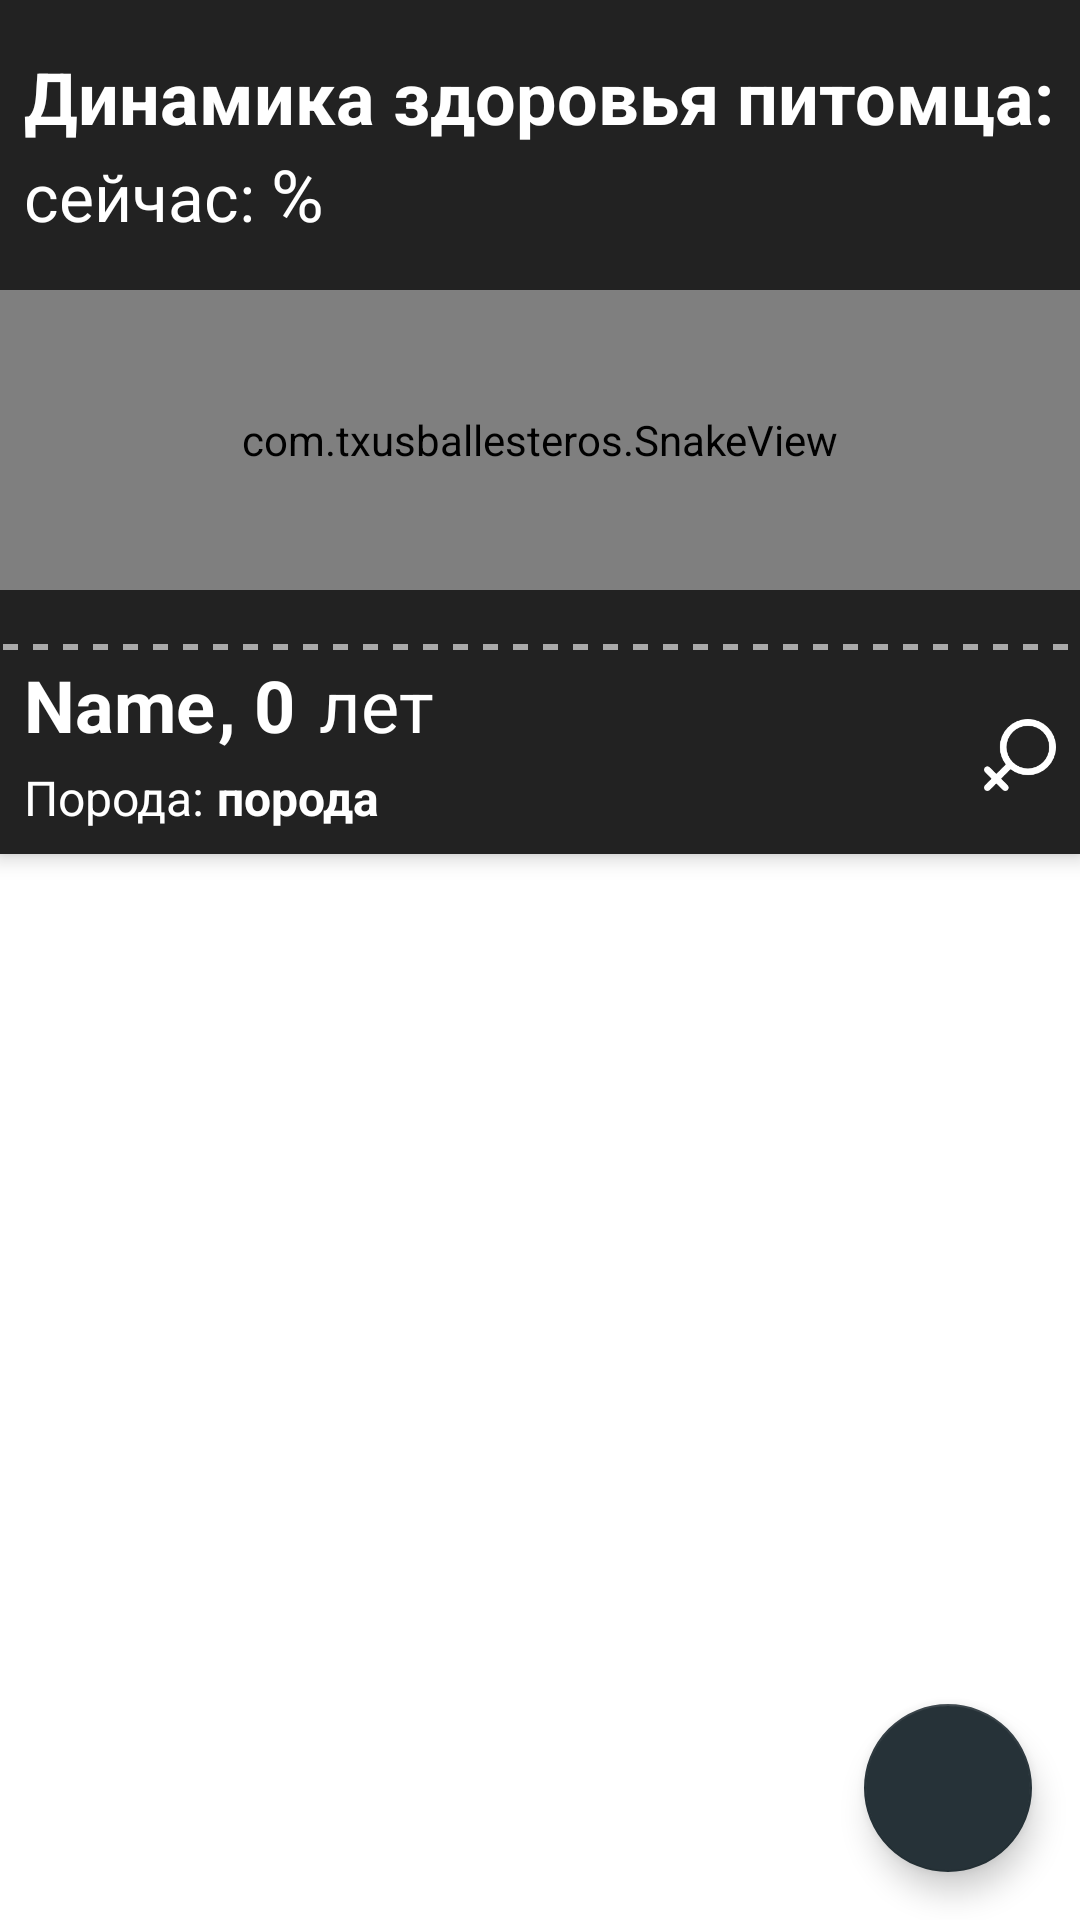

Icon bounding boxes for this 1080 x 1920 phone screenshot, format (x1, y1, x2, y2):
female: (984, 719, 1056, 791)
